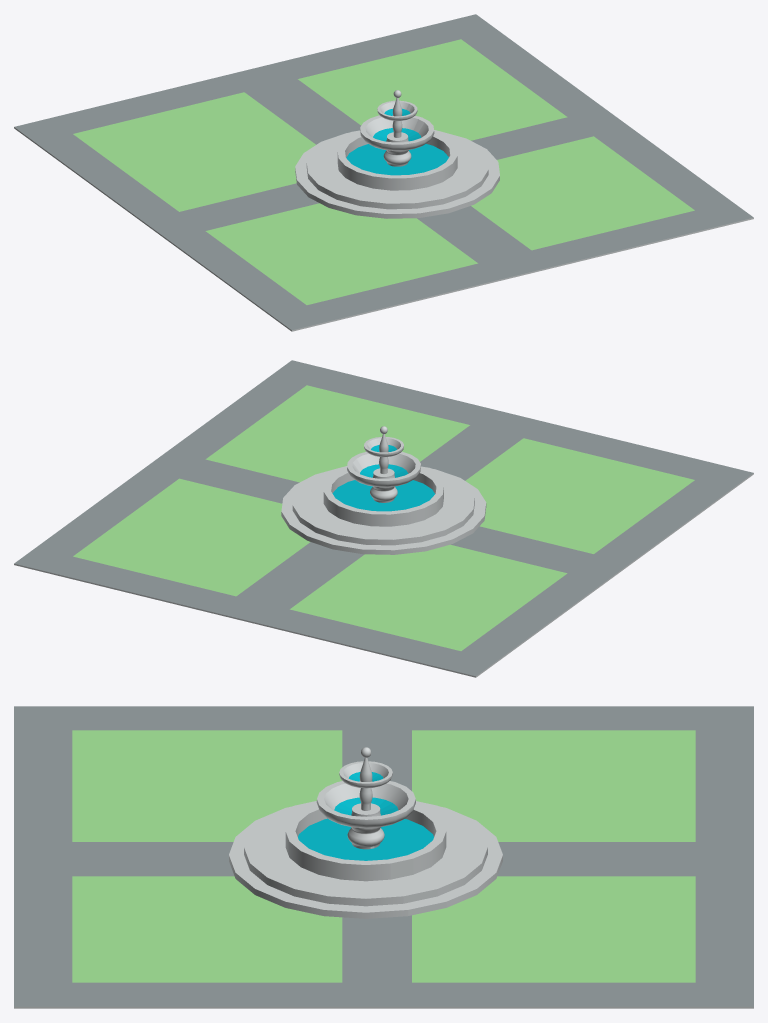
Rendered from Fountain.fbx.
3 renders of one model, top to bottom at view 1: azimuth 30°, elevation 25°; view 2: azimuth 150°, elevation 25°; view 3: azimuth 270°, elevation 25°, orthographic. The views are drawn at different scales.
Visible parts, largest first — view 1: Fountain; view 2: Fountain; view 3: Fountain.
Boxes of the visible parts, x1=… form: Fountain: x1=14, y1=14, x2=753, y2=331; Fountain: x1=14, y1=360, x2=753, y2=677; Fountain: x1=14, y1=706, x2=753, y2=1008.
Size of the model in its own units: 5.39 by 1.07 by 5.62.
